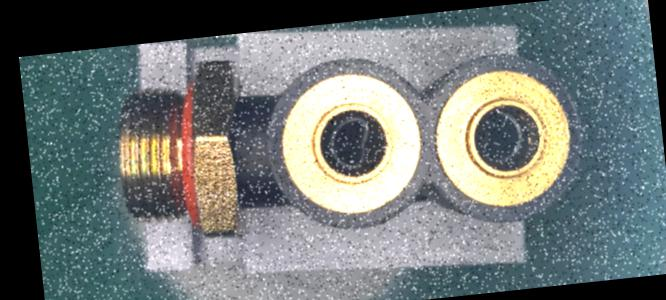off-centered: (469, 100, 527, 170), (322, 112, 377, 178)
